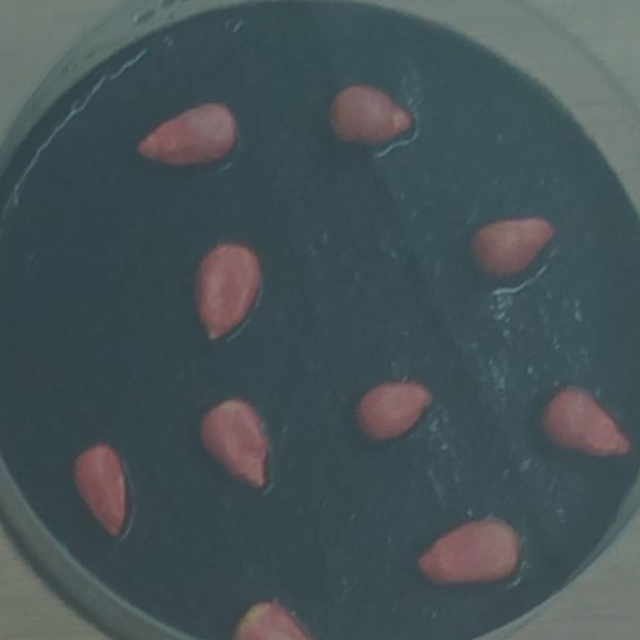Zea mays: (408, 511, 527, 596), (126, 95, 243, 177), (531, 380, 636, 467), (189, 391, 274, 497), (186, 236, 267, 347), (460, 209, 561, 289), (64, 437, 137, 547), (317, 78, 418, 156), (347, 373, 436, 450), (221, 593, 329, 639)
